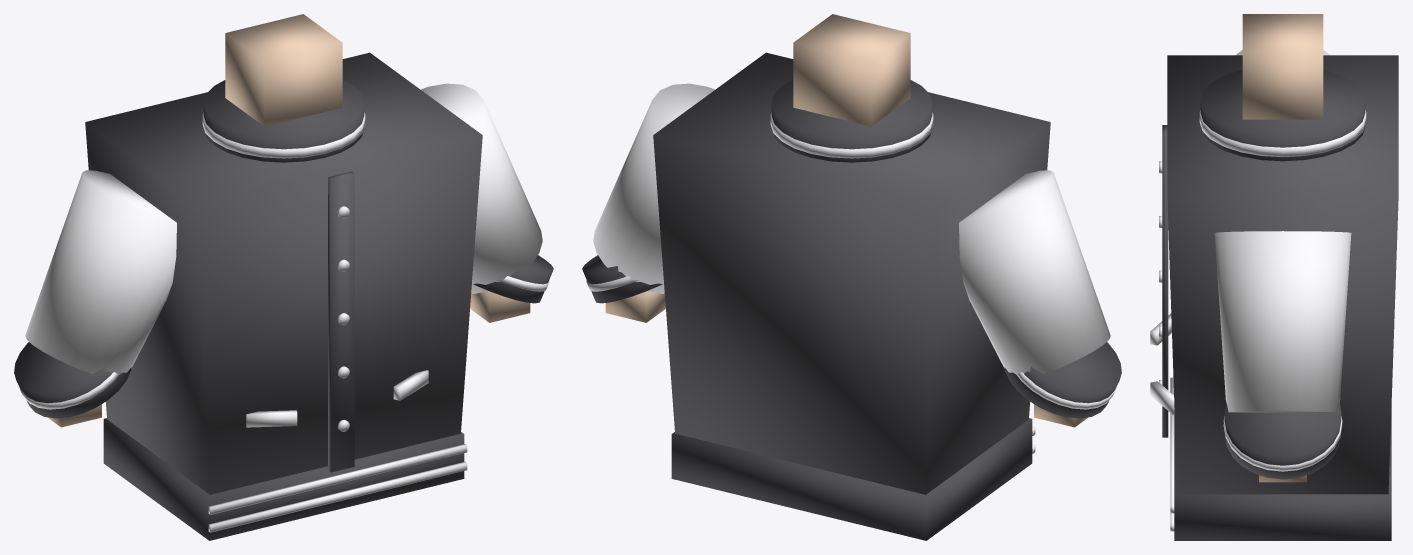
Rendered from row4_01_varsity_black.glb.
The picture shows the model from 3 angles, left to right: view 1: azimuth 30°, elevation 25°; view 2: azimuth 150°, elevation 25°; view 3: azimuth 270°, elevation 25°; orthographic projection. The views are drawn at different scales.
Parts seen in each view (by area): view 1: Torso_01_varsity_black, Sleeve_R_01_varsity_black, Hem_01_varsity_black, Neck_01_varsity_black, Sleeve_L_01_varsity_black, Placket_01_varsity_black, Collar_01_varsity_black, Cuff_R_01_varsity_black, Hem_S1_01_varsity_black, Hem_S2_01_varsity_black, Collar_Stripe_01_varsity_black, Cuff_L_01_varsity_black (+3 smaller); view 2: Torso_01_varsity_black, Sleeve_R_01_varsity_black, Hem_01_varsity_black, Neck_01_varsity_black, Sleeve_L_01_varsity_black, Collar_01_varsity_black, Cuff_R_01_varsity_black, Collar_Stripe_01_varsity_black, Cuff_L_01_varsity_black, Wrist_L_01_varsity_black, Cuff_Str_R_01_varsity_black; view 3: Torso_01_varsity_black, Sleeve_L_01_varsity_black, Hem_01_varsity_black, Neck_01_varsity_black, Collar_01_varsity_black, Cuff_L_01_varsity_black, Placket_01_varsity_black, Collar_Stripe_01_varsity_black, Cuff_Str_L_01_varsity_black, Hem_S1_01_varsity_black, Pocket_L_01_varsity_black.
Part boxes in pixels (x1,y1,x2,y2): Torso_01_varsity_black: [85, 52, 482, 494]; Sleeve_R_01_varsity_black: [25, 170, 176, 373]; Hem_01_varsity_black: [103, 418, 464, 540]; Neck_01_varsity_black: [225, 14, 342, 126]; Sleeve_L_01_varsity_black: [421, 83, 542, 293]; Placket_01_varsity_black: [328, 171, 354, 472]; Collar_01_varsity_black: [203, 80, 364, 162]; Cuff_R_01_varsity_black: [14, 342, 131, 418]; Hem_S1_01_varsity_black: [208, 444, 467, 514]; Hem_S2_01_varsity_black: [208, 461, 467, 532]; Collar_Stripe_01_varsity_black: [202, 112, 365, 158]; Cuff_L_01_varsity_black: [473, 255, 553, 303]; Torso_01_varsity_black: [653, 52, 1050, 494]; Sleeve_R_01_varsity_black: [959, 170, 1110, 373]; Hem_01_varsity_black: [671, 418, 1032, 540]; Neck_01_varsity_black: [793, 14, 910, 126]; Sleeve_L_01_varsity_black: [593, 83, 714, 293]; Collar_01_varsity_black: [771, 80, 932, 162]; Cuff_R_01_varsity_black: [1004, 342, 1121, 418]; Collar_Stripe_01_varsity_black: [770, 112, 933, 158]; Cuff_L_01_varsity_black: [582, 255, 662, 303]; Wrist_L_01_varsity_black: [605, 291, 665, 322]; Cuff_Str_R_01_varsity_black: [1014, 372, 1116, 409]; Torso_01_varsity_black: [1167, 55, 1398, 494]; Sleeve_L_01_varsity_black: [1214, 231, 1351, 412]; Hem_01_varsity_black: [1174, 408, 1391, 540]; Neck_01_varsity_black: [1242, 14, 1323, 119]; Collar_01_varsity_black: [1200, 69, 1365, 161]; Cuff_L_01_varsity_black: [1224, 401, 1341, 479]; Placket_01_varsity_black: [1162, 125, 1168, 437]; Collar_Stripe_01_varsity_black: [1199, 110, 1366, 156]; Cuff_Str_L_01_varsity_black: [1223, 416, 1342, 471]; Hem_S1_01_varsity_black: [1170, 377, 1174, 513]; Pocket_L_01_varsity_black: [1150, 381, 1174, 415].
Bounding box in the file's own units: 0.6157 × 0.487 × 0.2469.
